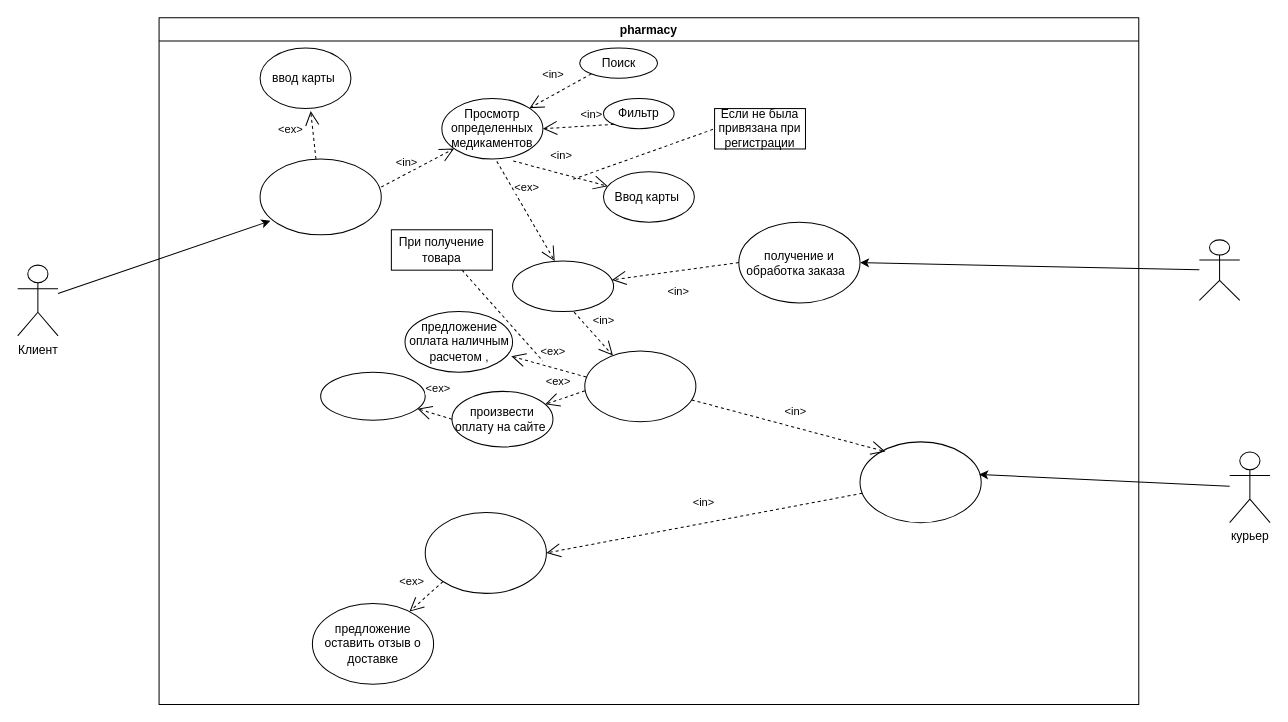
Some shapes in this 1288 by 722 pixel diagram are drawn without their labels. The shapes that lost their labels are listed below. From the top down, each one's box as (x1, y1, x2, y2) in pixels, then its label:
(259, 158, 381, 235): Регистрация , указ Фио , лич счета, указание пароля
(512, 260, 614, 312): делает заказ
(1198, 239, 1240, 300): Менеджер
(320, 371, 425, 420): предоставление квитанции об оплате
(584, 350, 696, 422): обработанный заказ передается курьеру
(859, 441, 981, 523): курьер забирает заказ со склада
(424, 512, 546, 593): передает заказа клиенту
